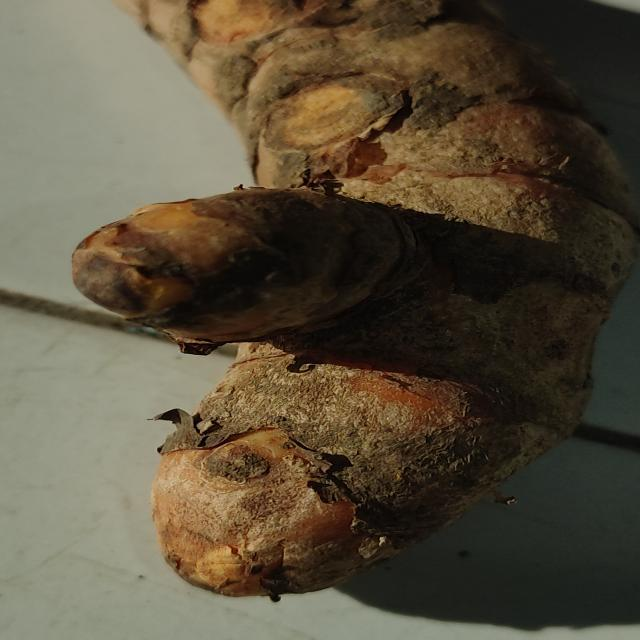ginger: (134, 0, 619, 564)
